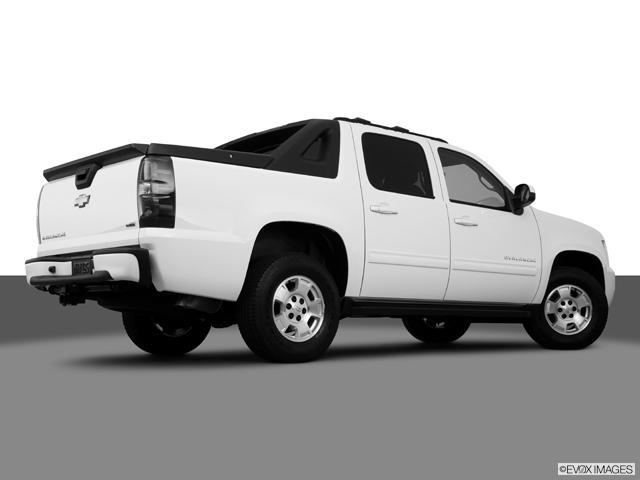car: (24, 114, 618, 366)
